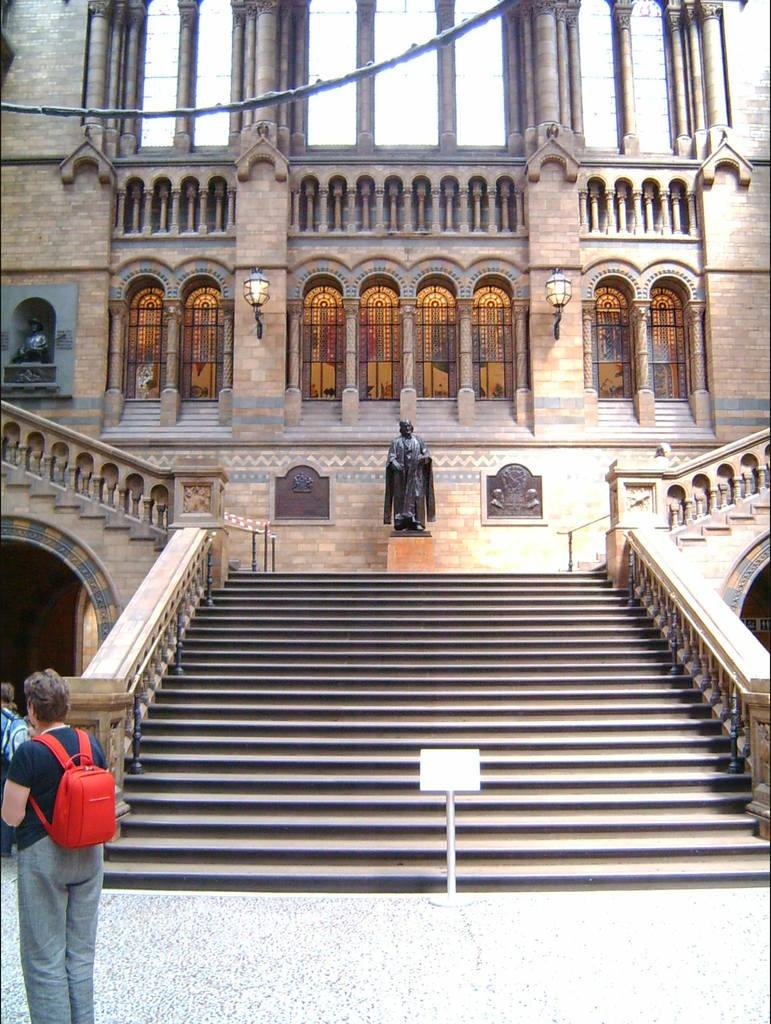Luggage-and-bags: (30, 730, 115, 848)
